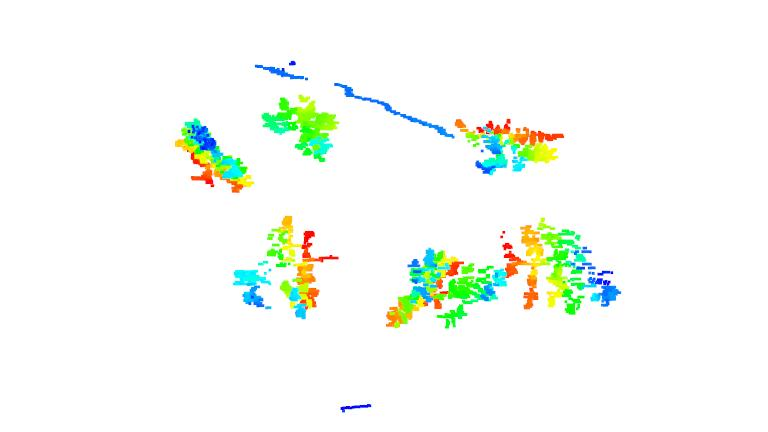chickpea: (499, 216, 621, 312), (231, 216, 343, 320), (382, 246, 508, 333), (171, 115, 258, 196), (455, 114, 564, 177), (258, 86, 342, 164)
